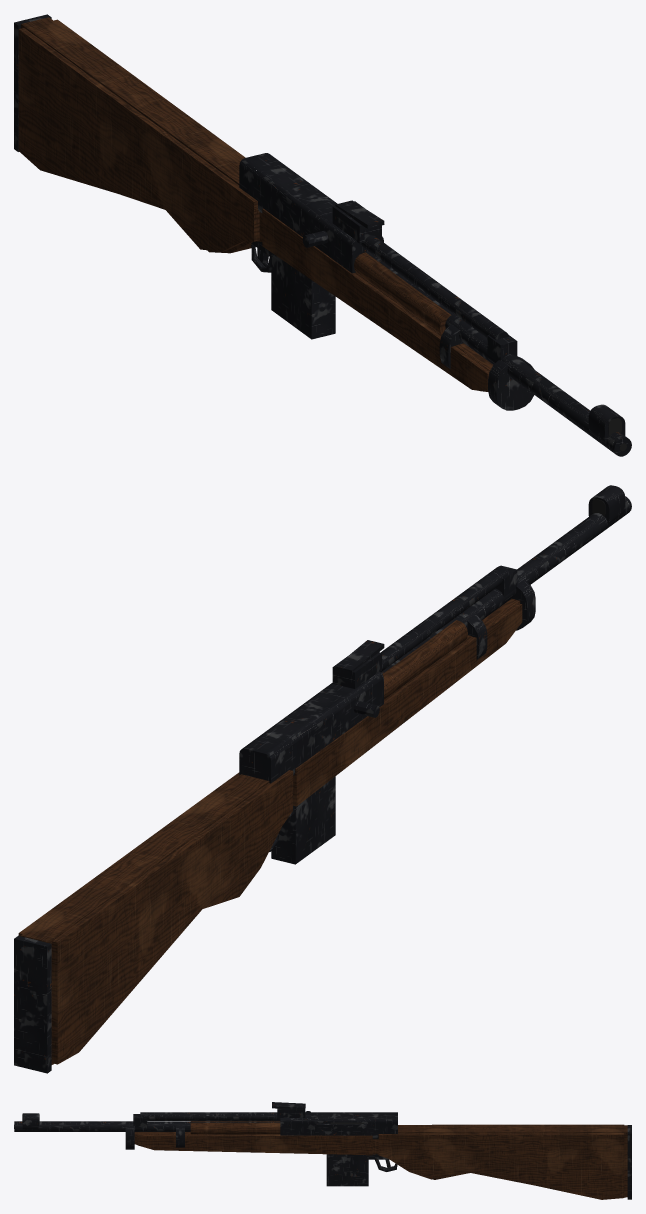
3 views of the same model, one above another, from view 1: azimuth 30°, elevation 25°; view 2: azimuth 150°, elevation 25°; view 3: azimuth 270°, elevation 25° (orthographic). The views are drawn at different scales.
Visible parts, largest first — view 1: Gewehr_43; view 2: Gewehr_43; view 3: Gewehr_43.
Boxes of the visible parts, left/top/right/bottom form: Gewehr_43: left=14, top=14, right=631, bottom=456; Gewehr_43: left=14, top=485, right=631, bottom=1073; Gewehr_43: left=14, top=1102, right=631, bottom=1199.
Bounding box in the file's own units: 0.061 × 0.1806 × 1.1.
Materials: 3 (2 with a texture image).
